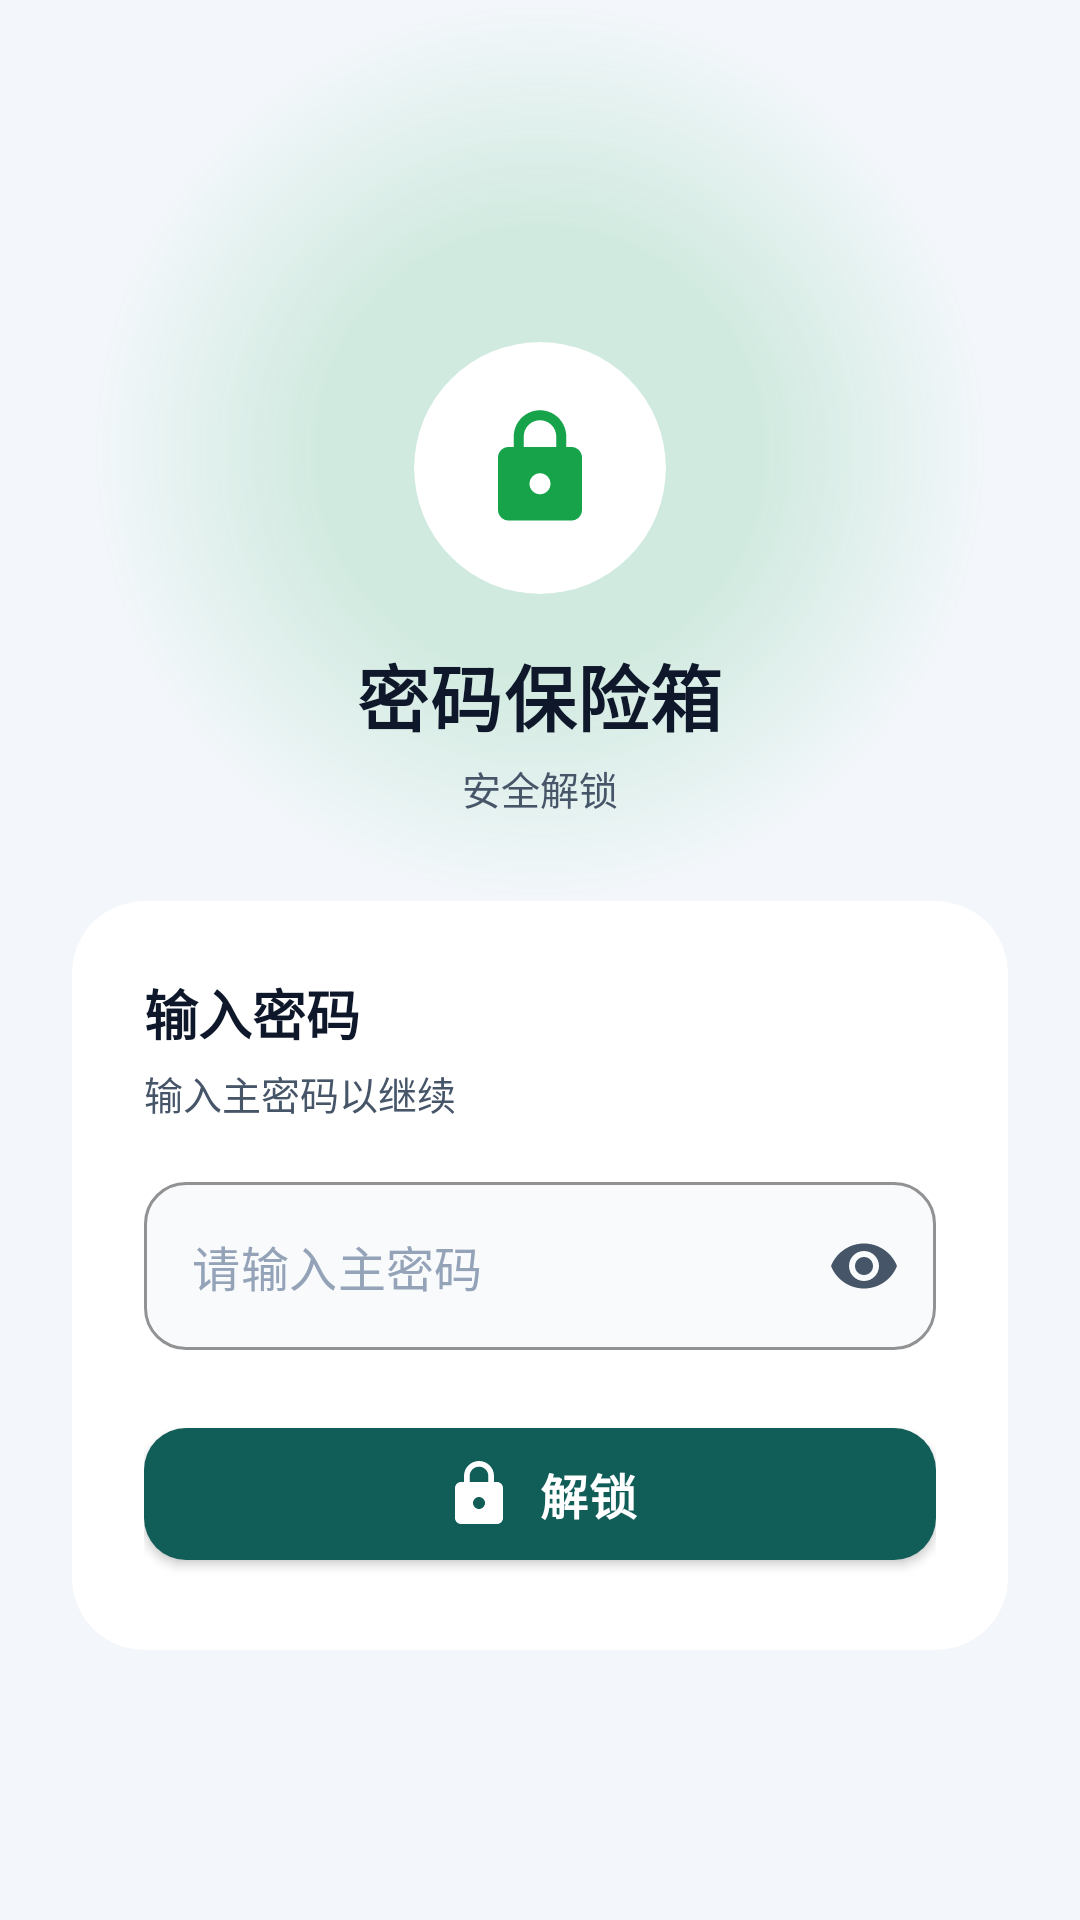

Locate icon controls on the screen. Image size 1080 x 1920, boxes as box=[x1, y1, x2, y2].
lock: box=[498, 410, 582, 521]
